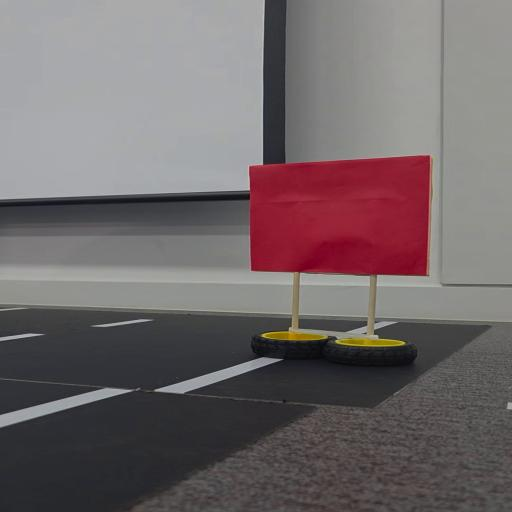Sign_A: (237, 150, 441, 374)
